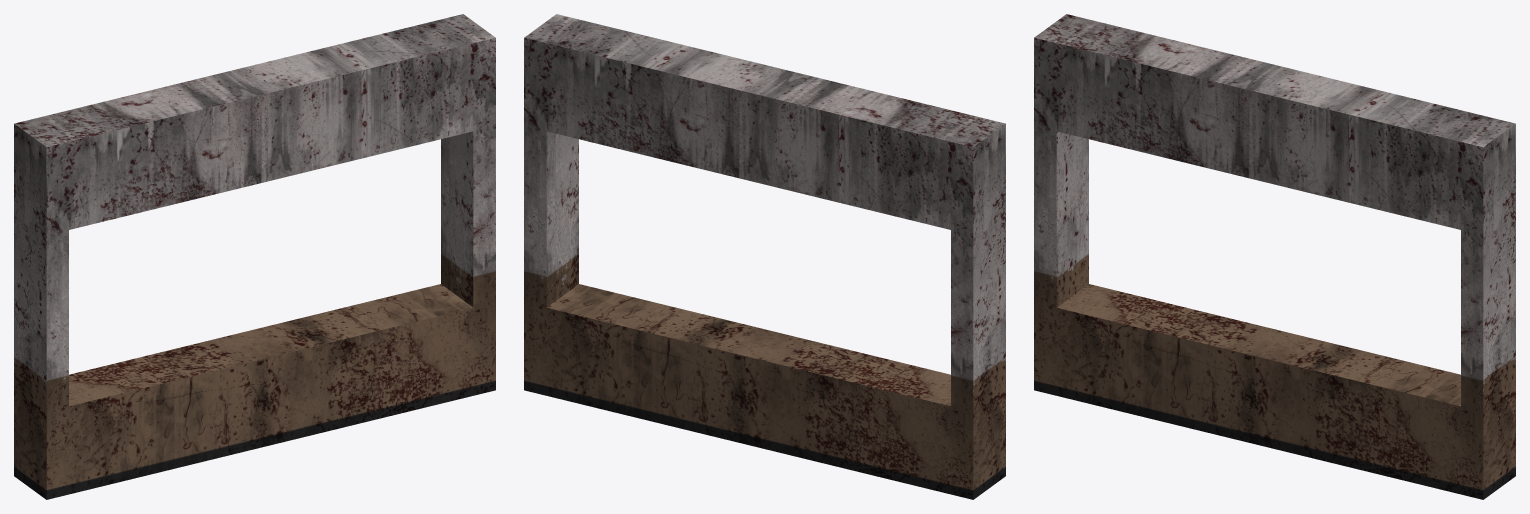
Rendered from Mesh_Env_WalWindow01.fbx.
The picture shows the model from 3 angles, left to right: view 1: azimuth 30°, elevation 25°; view 2: azimuth 150°, elevation 25°; view 3: azimuth 330°, elevation 25°; orthographic projection.
Parts seen in each view (by area): view 1: Mesh_Env_WalWindow01; view 2: Mesh_Env_WalWindow01; view 3: Mesh_Env_WalWindow01.
Boxes of the visible parts, x1,y1,x2,y2 form: Mesh_Env_WalWindow01: (14, 14, 495, 499); Mesh_Env_WalWindow01: (524, 14, 1005, 499); Mesh_Env_WalWindow01: (1034, 14, 1515, 499).
Bounding box in the file's own units: 400 × 300 × 50.
